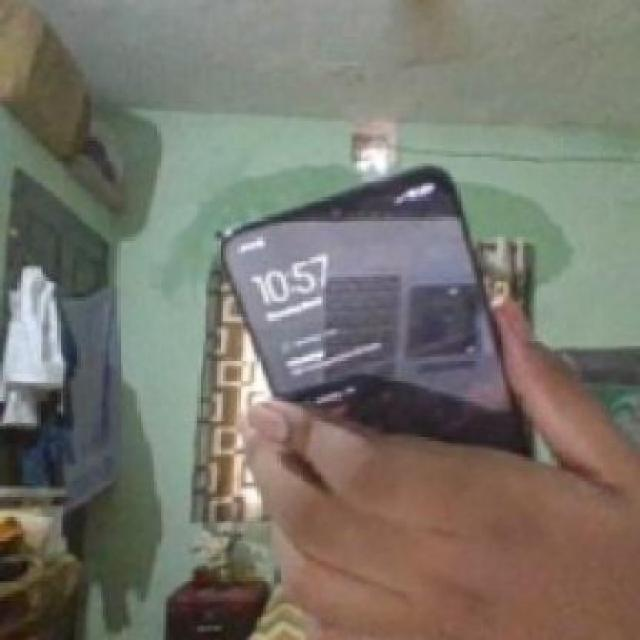Phone: (218, 160, 537, 462)
